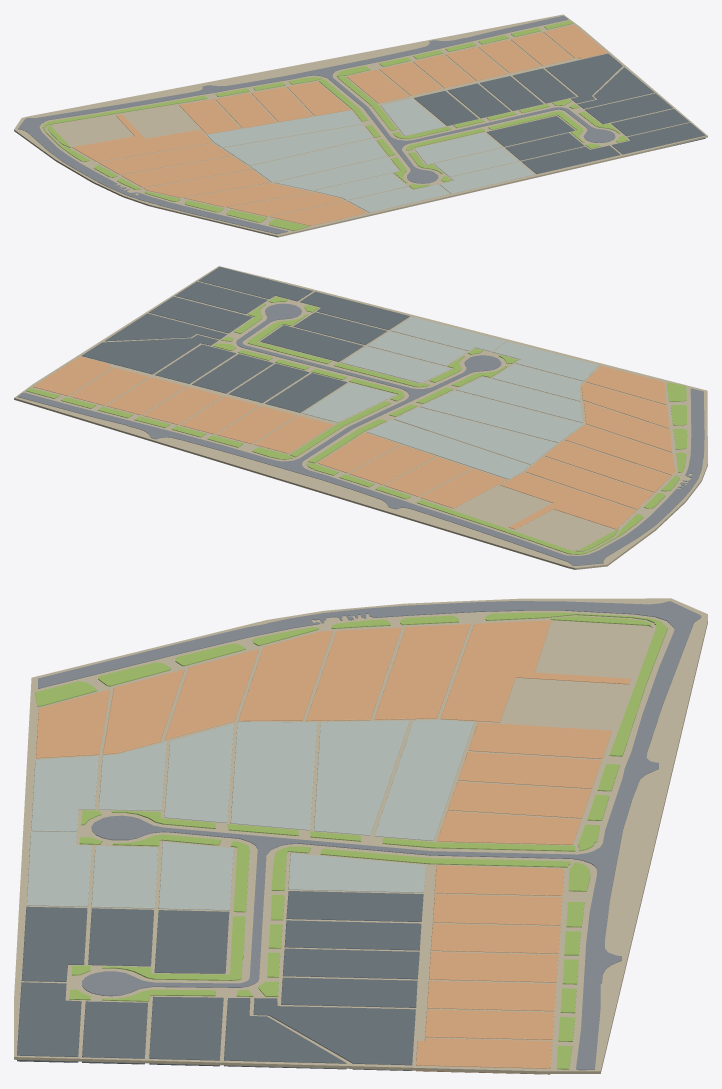
The model's file is beechford-flat.glb.
3 renders of one model, top to bottom at view 1: azimuth 30°, elevation 25°; view 2: azimuth 150°, elevation 25°; view 3: azimuth 270°, elevation 25°, orthographic. The views are drawn at different scales.
Parts seen in each view (by area): view 1: Terrain, Roads, Verges, Lot_21, Lot_20, Lot_12, Lot_19, Lot_33, Lot_13, Lot_14, Lot_22, Lot_15 (+31 smaller); view 2: Terrain, Roads, Verges, Lot_21, Lot_20, Lot_12, Lot_19, Lot_33, Lot_13, Lot_14, Lot_22, Lot_15 (+31 smaller); view 3: Terrain, Roads, Verges, Lot_21, Lot_20, Lot_12, Lot_19, Lot_33, Lot_13, Lot_14, Lot_22, Lot_15 (+31 smaller).
Part boxes in pixels (x1,y1,x2,y2): Terrain: (14,14,707,237); Roads: (18,15,615,234); Verges: (42,21,628,230); Lot_21: (250,138,386,182); Lot_20: (223,124,372,165); Lot_12: (72,114,212,161); Lot_19: (207,110,361,147); Lot_33: (545,53,622,103); Lot_13: (98,143,231,174); Lot_14: (121,156,250,187); Lot_22: (275,157,398,190); Lot_15: (143,169,269,197); Terrain: (14,266,707,569); Roads: (17,303,704,565); Verges: (26,296,687,554); Lot_21: (420,390,583,442); Lot_20: (394,407,556,464); Lot_12: (500,472,636,529); Lot_19: (367,419,529,479); Lot_33: (82,335,218,374); Lot_13: (525,456,653,509); Lot_14: (544,440,670,492); Lot_22: (456,377,582,422); Lot_15: (565,424,675,475); Terrain: (14,598,707,1073); Roads: (38,601,701,1070); Verges: (35,612,667,1069); Lot_21: (230,722,316,830); Lot_20: (314,720,409,835); Lot_12: (440,620,630,722); Lot_19: (374,720,473,840); Lot_33: (253,998,415,1070); Lot_13: (374,624,470,719); Lot_14: (306,627,401,721); Lot_22: (164,723,233,822); Lot_15: (238,631,332,721).
Bounding box in the file's own units: 426 × 2.8 × 264.
